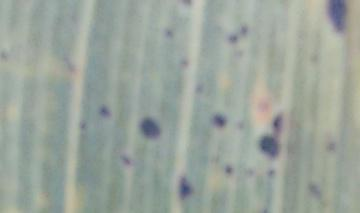tarspot: (328, 1, 348, 36), (259, 136, 281, 158), (140, 120, 159, 138), (179, 176, 191, 200), (308, 183, 322, 200), (212, 113, 227, 128), (274, 114, 284, 133), (98, 105, 111, 119), (326, 141, 337, 154), (239, 23, 248, 37), (164, 27, 174, 39), (224, 163, 233, 176), (1, 49, 9, 62), (78, 120, 88, 129), (121, 155, 130, 165), (195, 85, 205, 94), (229, 34, 237, 45), (181, 58, 191, 66), (181, 1, 194, 6), (267, 169, 275, 177)
